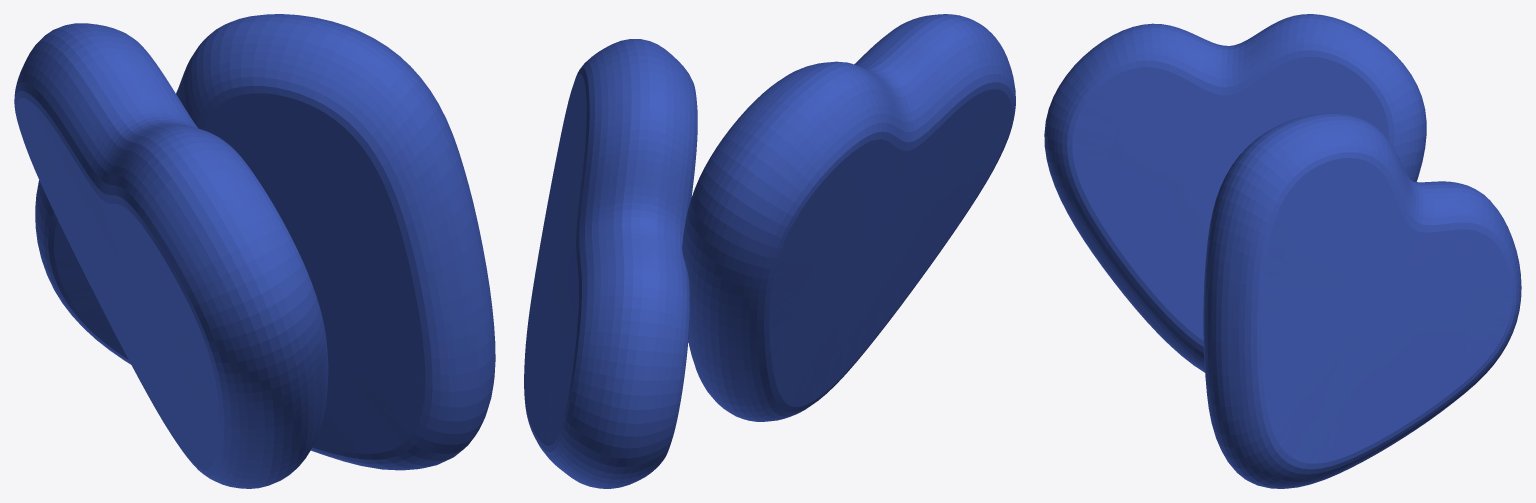
Rendered from heart.glb.
3 renders of one model, left to right at view 1: azimuth 30°, elevation 25°; view 2: azimuth 150°, elevation 25°; view 3: azimuth 270°, elevation 25°, orthographic. The views are drawn at different scales.
Parts seen in each view (by area): view 1: Mesh2; view 2: Mesh2; view 3: Mesh2.
Part boxes in pixels (bbox=[...]): Mesh2: bbox=[14, 14, 495, 488]; Mesh2: bbox=[524, 14, 1015, 488]; Mesh2: bbox=[1044, 14, 1521, 488].
Size of the model in its own units: 7.14 by 7.81 by 9.3.
